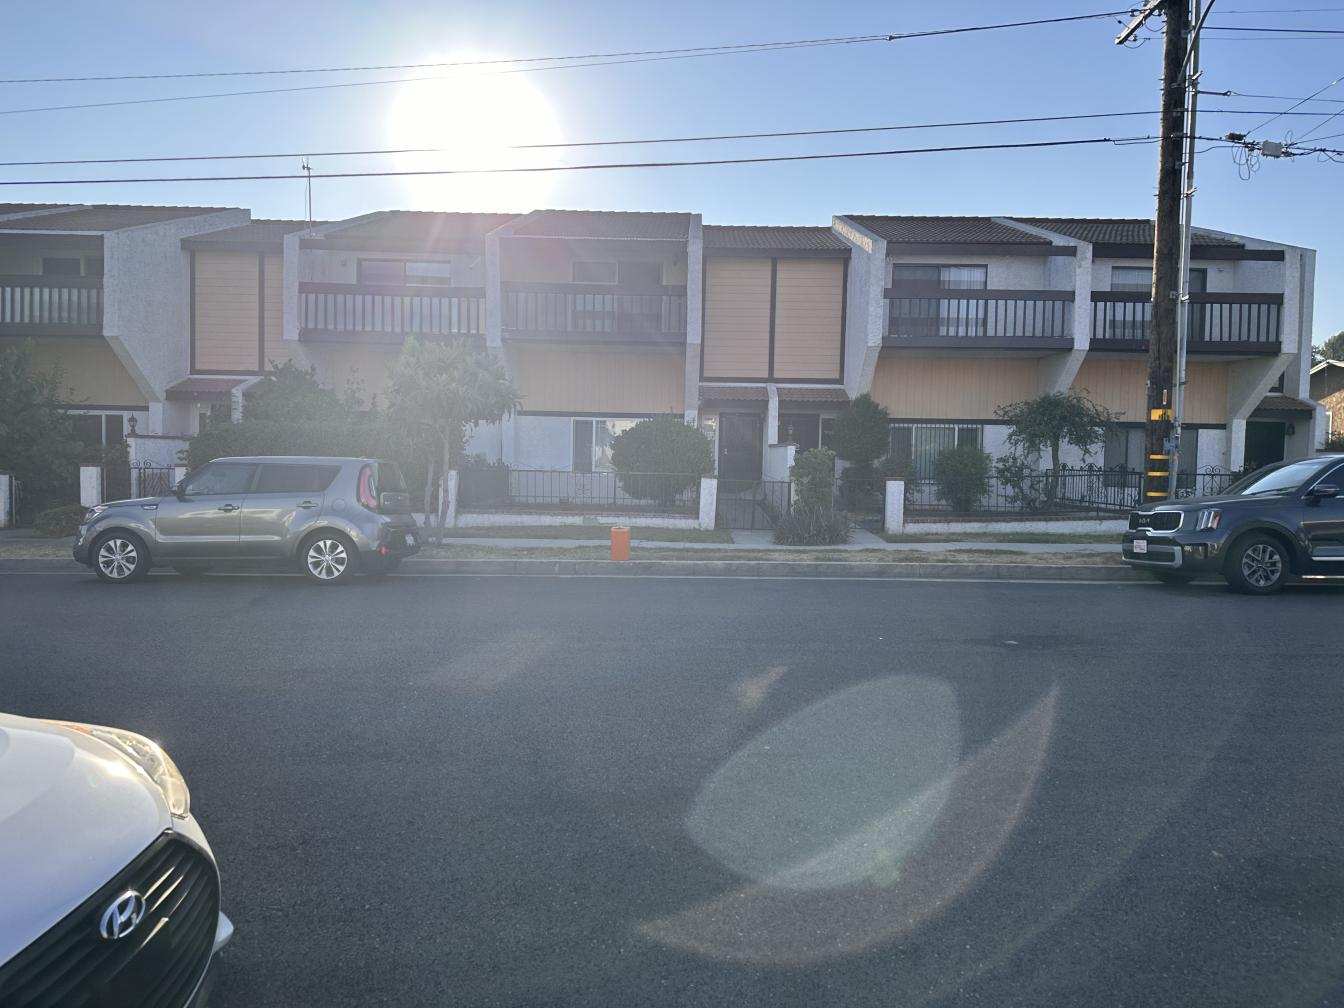curbs-laRr: (428, 556, 1122, 583)
orange box: (612, 525, 632, 560)
